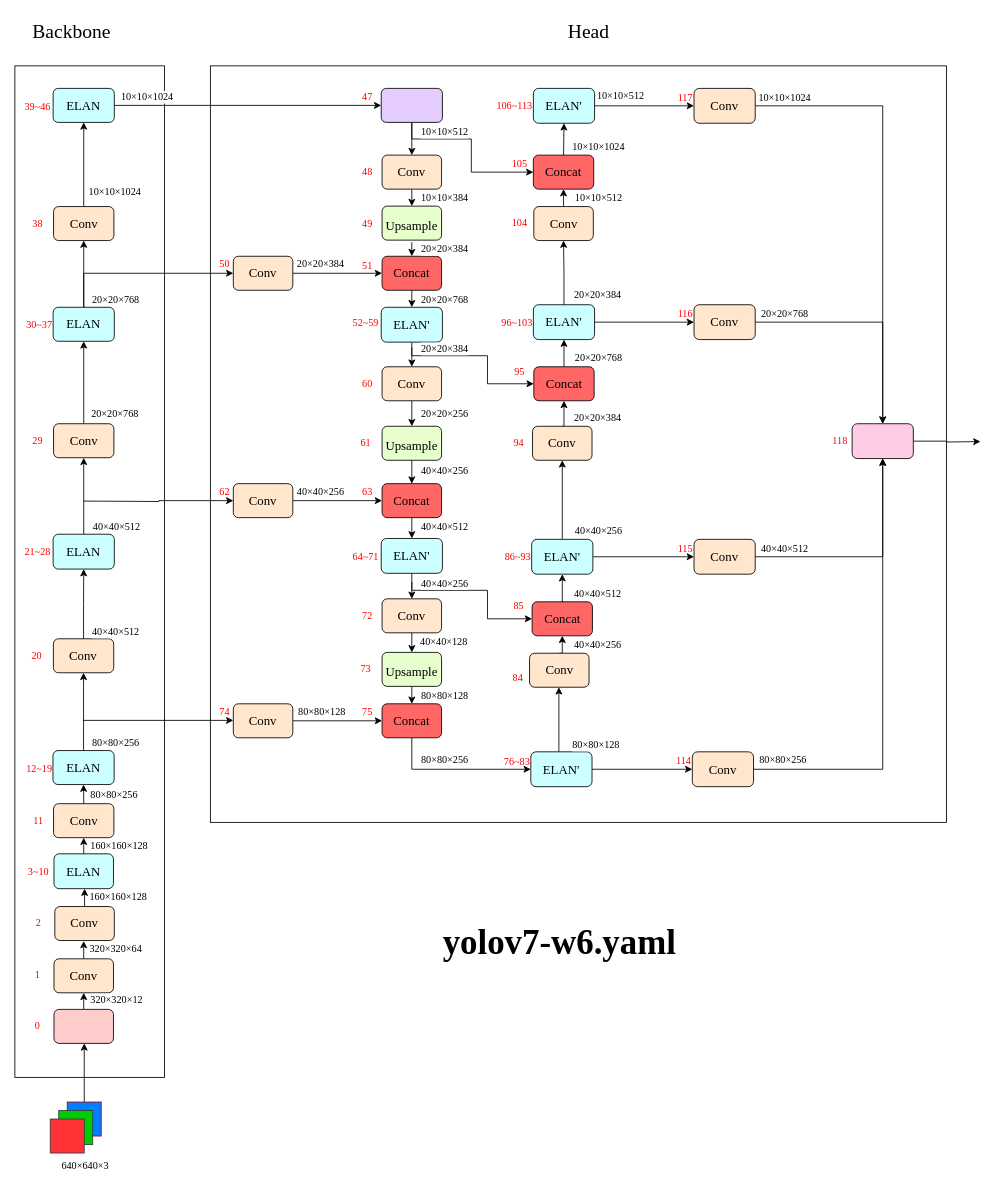
Some shapes in this 1002 by 1193 pixel diagram are drawn without their labels. Here are the shapes that lost their labels. From the top down, the centre of each, then its label:
[411,105]: SPPCSPC
[882,441]: Detect
[83,1026]: ReOrg
